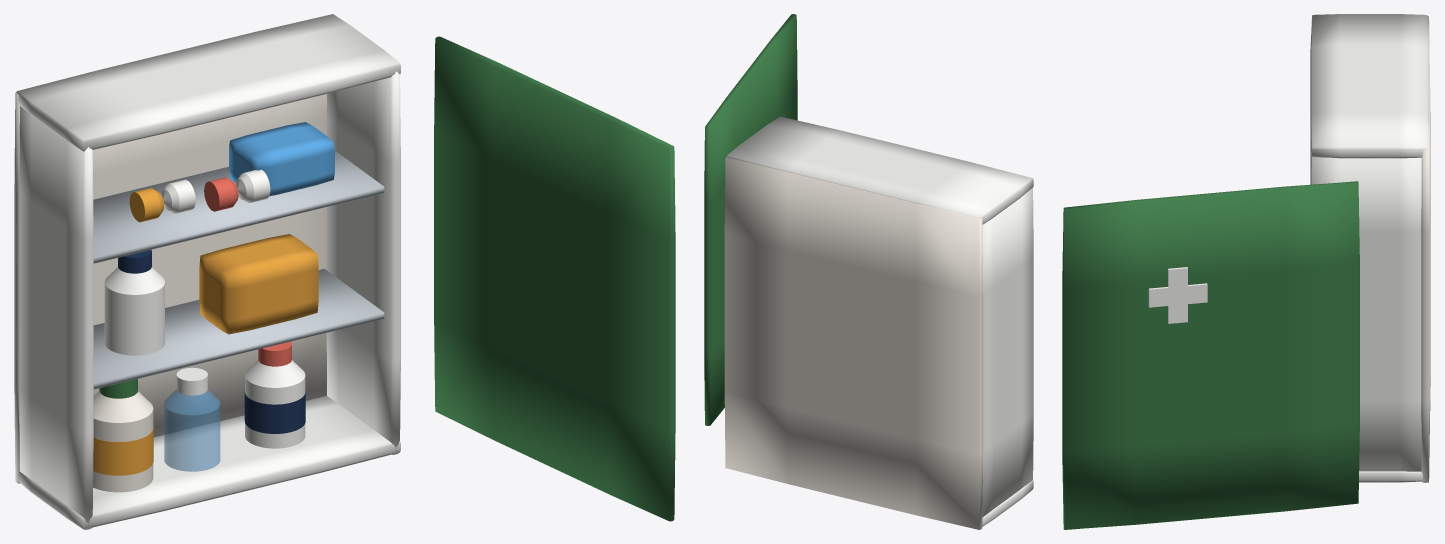
File: cabinet.glb
3 views of the same model, side by side, from view 1: azimuth 30°, elevation 25°; view 2: azimuth 150°, elevation 25°; view 3: azimuth 270°, elevation 25° (orthographic). The views are drawn at different scales.
Visible parts, largest first — view 1: cabinet; view 2: cabinet; view 3: cabinet.
Boxes of the visible parts, x1,y1,x2,y2 form: cabinet: (14, 14, 675, 529); cabinet: (704, 14, 1033, 529); cabinet: (1062, 14, 1430, 529).
Bounding box in the file's own units: 3.36 × 2.82 × 2.78.
